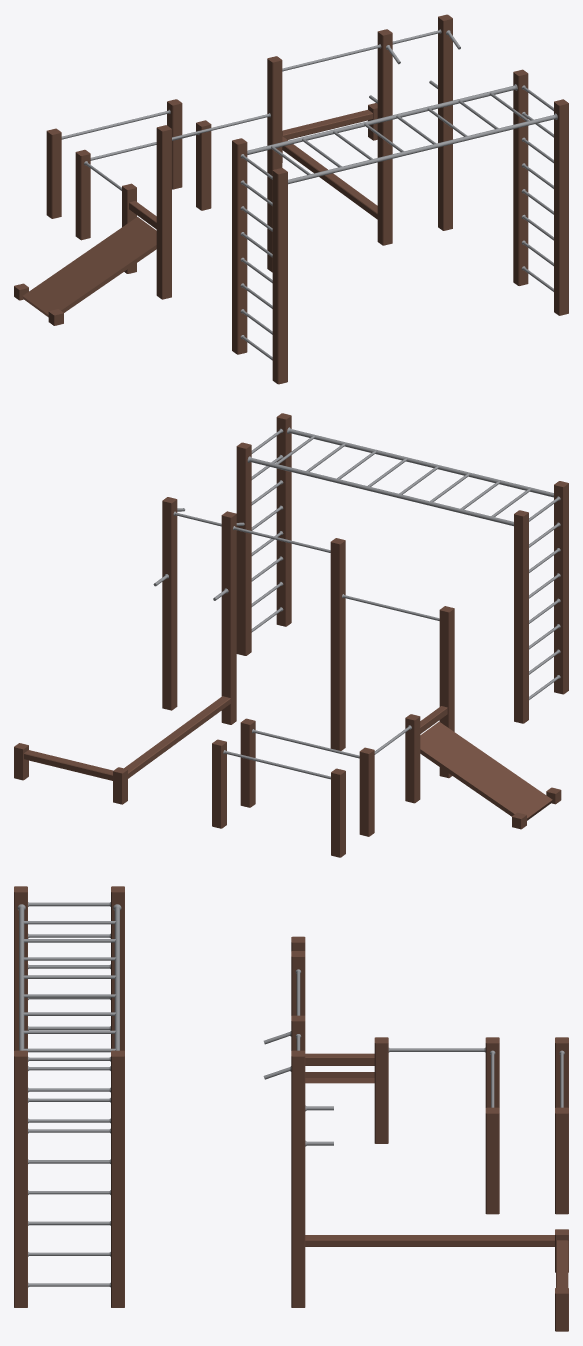
Rendered from Playground01.fbx.
3 renders of one model, top to bottom at view 1: azimuth 30°, elevation 25°; view 2: azimuth 150°, elevation 25°; view 3: azimuth 270°, elevation 25°, orthographic. The views are drawn at different scales.
Parts seen in each view (by area): view 1: Model; view 2: Model; view 3: Model.
Part boxes in pixels (x1=…): Model: x1=14, y1=14, x2=568, y2=384; Model: x1=14, y1=413, x2=568, y2=857; Model: x1=14, y1=886, x2=568, y2=1331.
Size of the model in its own units: 4.38 by 2 by 4.
